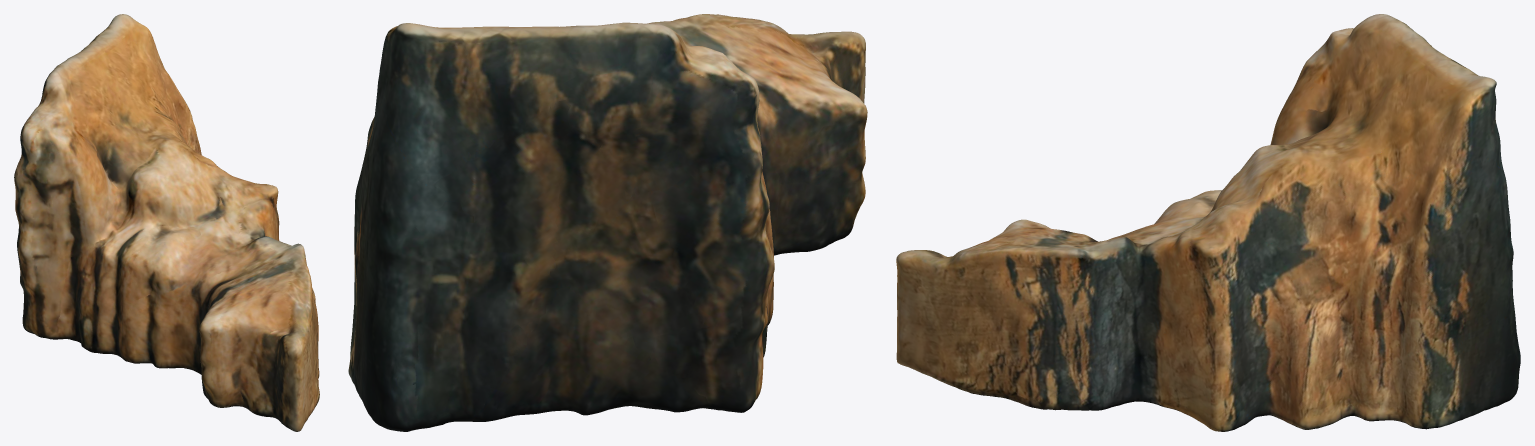
The model's file is shan2.fbx.
3 renders of one model, left to right at view 1: azimuth 30°, elevation 25°; view 2: azimuth 150°, elevation 25°; view 3: azimuth 270°, elevation 25°, orthographic. The views are drawn at different scales.
Parts seen in each view (by area): view 1: geometry_0; view 2: geometry_0; view 3: geometry_0.
Part boxes in pixels (x1,y1,x2,y2): geometry_0: (14, 14, 319, 431); geometry_0: (348, 14, 867, 431); geometry_0: (896, 14, 1520, 431).
Size of the model in its own units: 53.19 by 54.83 by 98.01.
